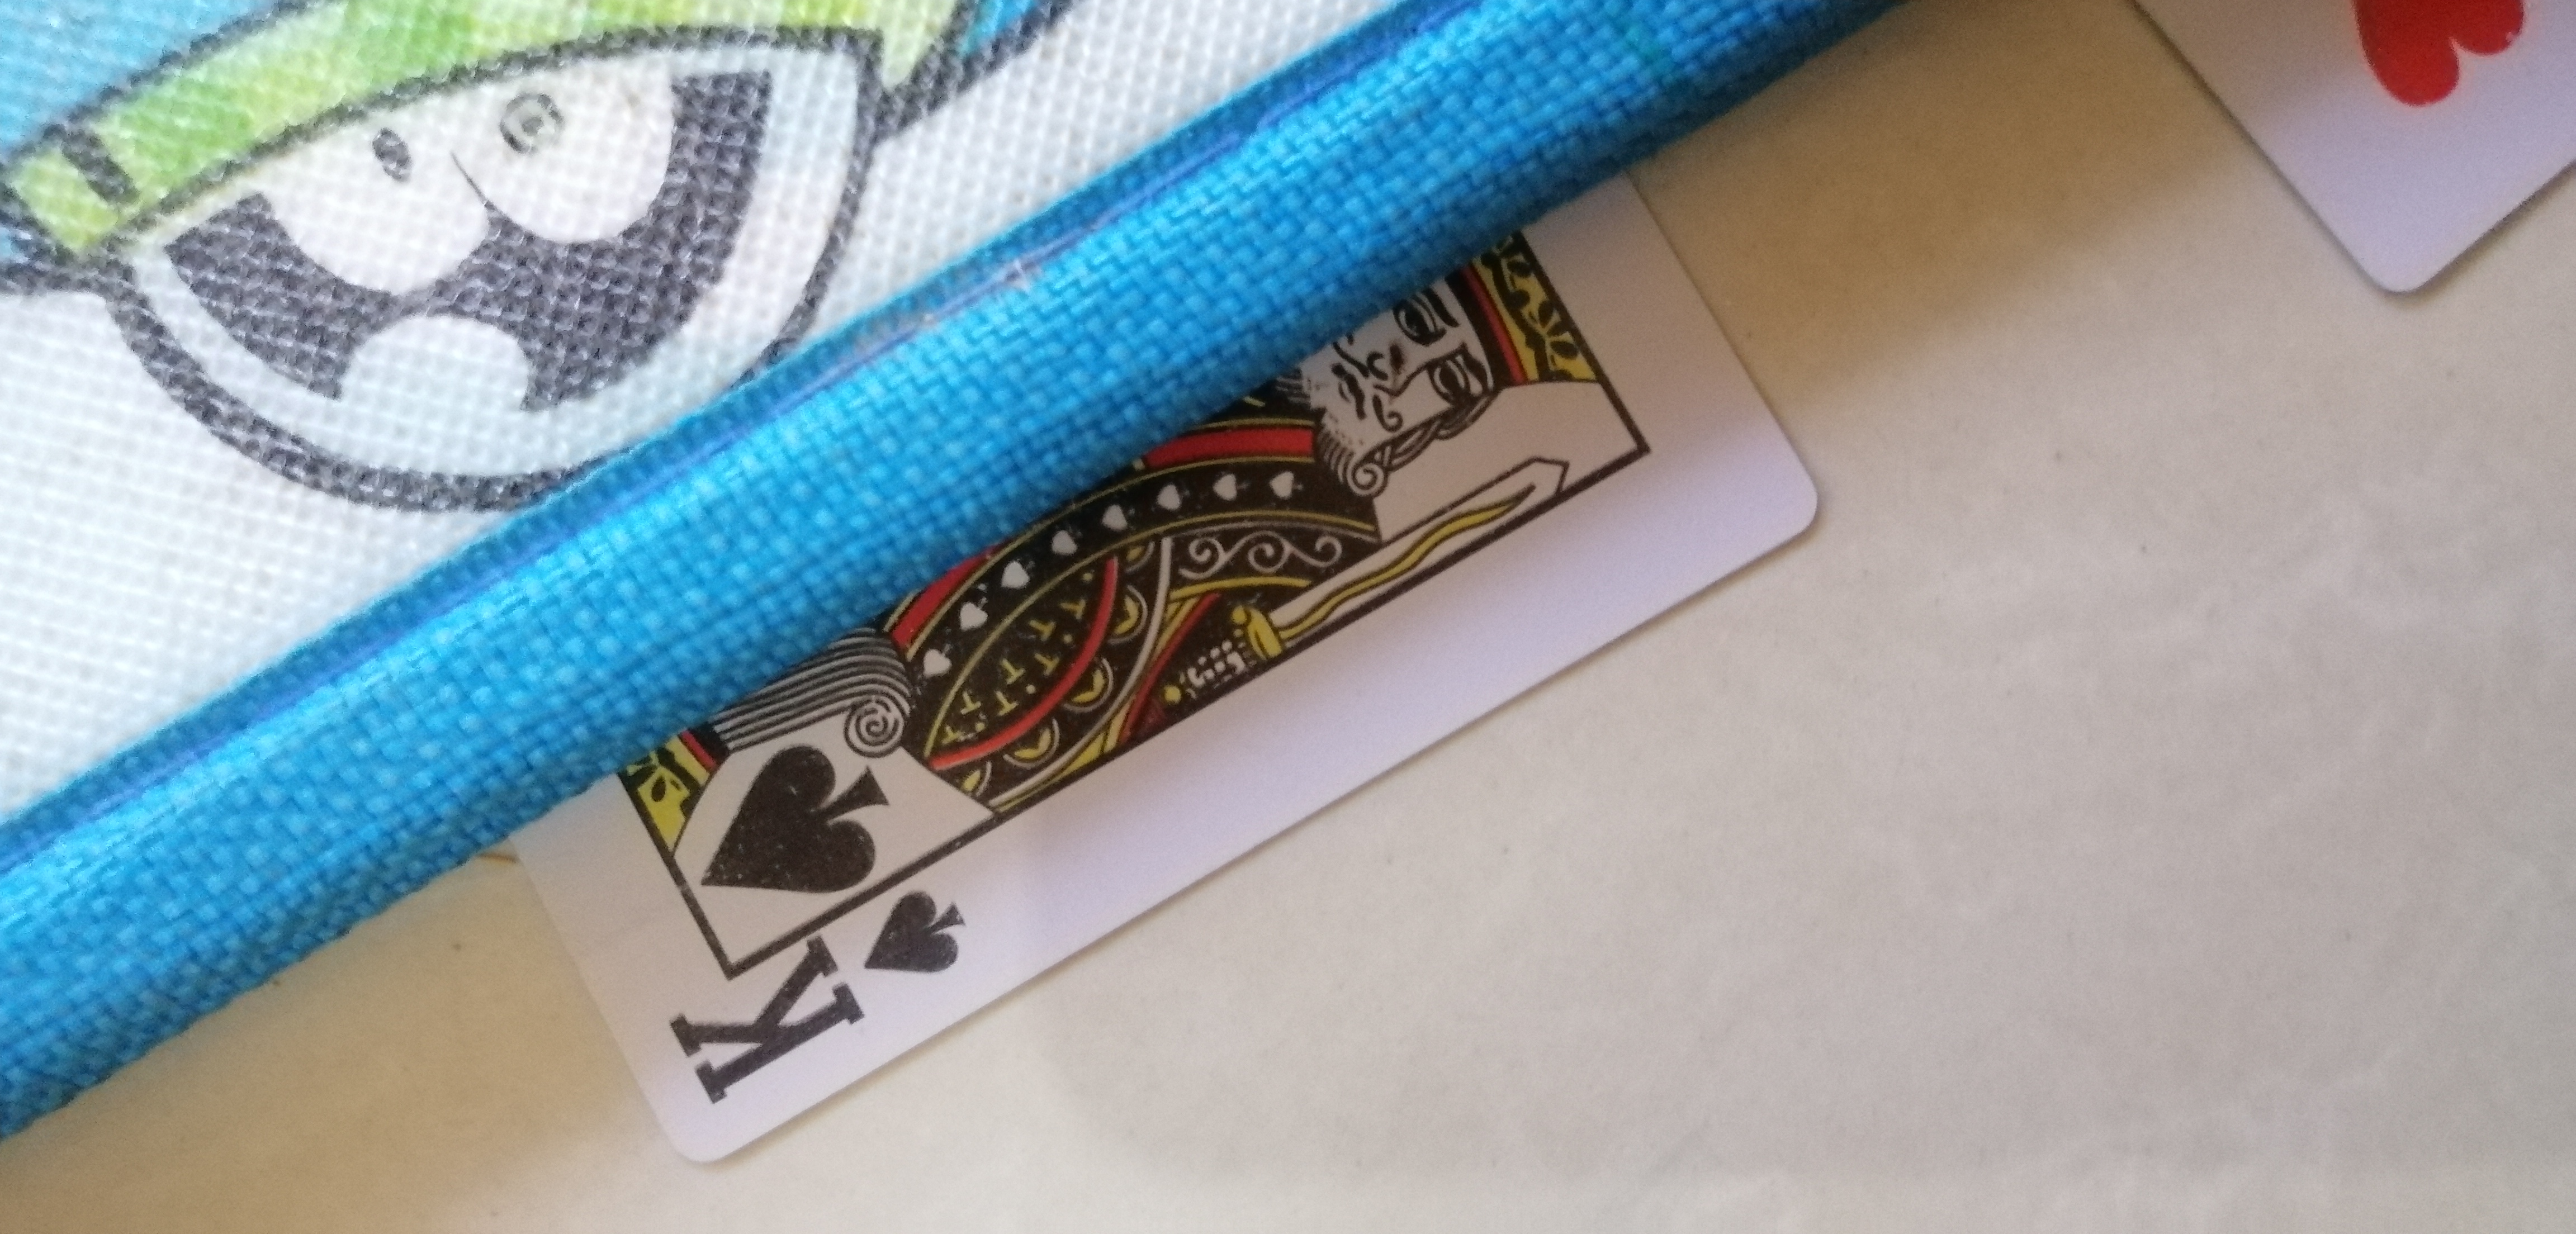king: (396, 146, 1870, 1149)
